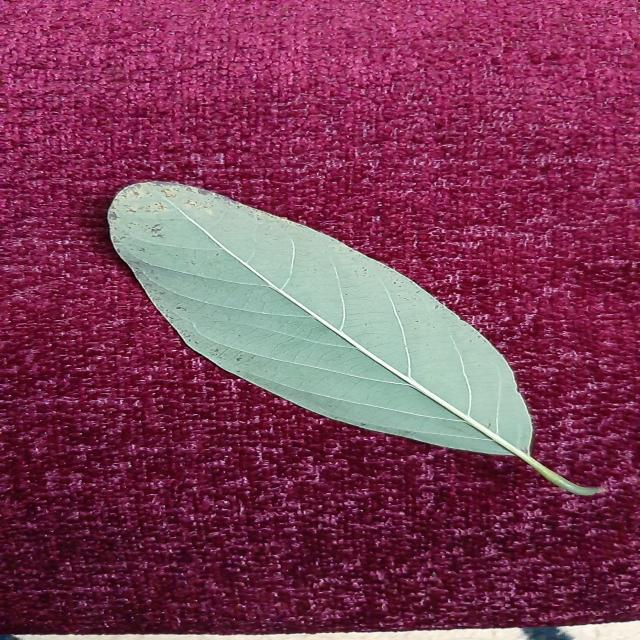seethaphala: (108, 181, 599, 495)
